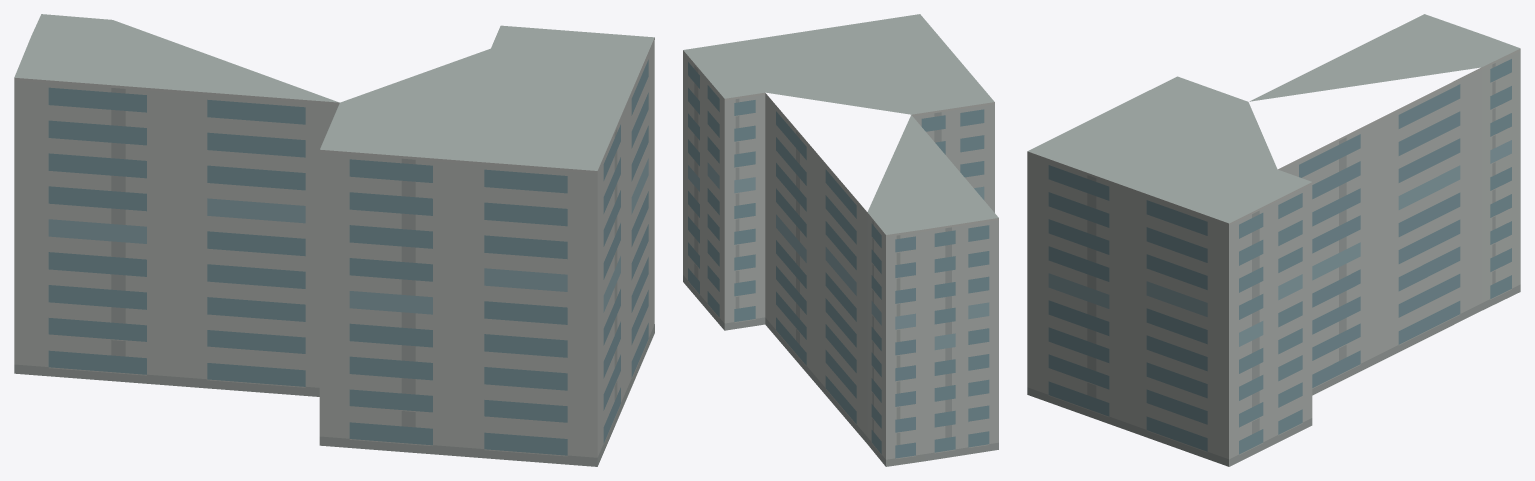
File: residential-5a7ece68-d4bc-468a-9179-be2a9bd9b878.glb
The picture shows the model from 3 angles, left to right: view 1: azimuth 30°, elevation 25°; view 2: azimuth 150°, elevation 25°; view 3: azimuth 270°, elevation 25°; orthographic projection. The views are drawn at different scales.
Parts seen in each view (by area): view 1: residential-5a7ece68-d4bc-468a-9179-be2a9bd9b878.tmp; view 2: residential-5a7ece68-d4bc-468a-9179-be2a9bd9b878.tmp; view 3: residential-5a7ece68-d4bc-468a-9179-be2a9bd9b878.tmp.
Part boxes in pixels (left/top/right/bottom): residential-5a7ece68-d4bc-468a-9179-be2a9bd9b878.tmp: left=14, top=14, right=654, bottom=466; residential-5a7ece68-d4bc-468a-9179-be2a9bd9b878.tmp: left=683, top=14, right=998, bottom=466; residential-5a7ece68-d4bc-468a-9179-be2a9bd9b878.tmp: left=1027, top=14, right=1520, bottom=466.
Bounding box in the file's own units: 49.83 × 27 × 49.61.
